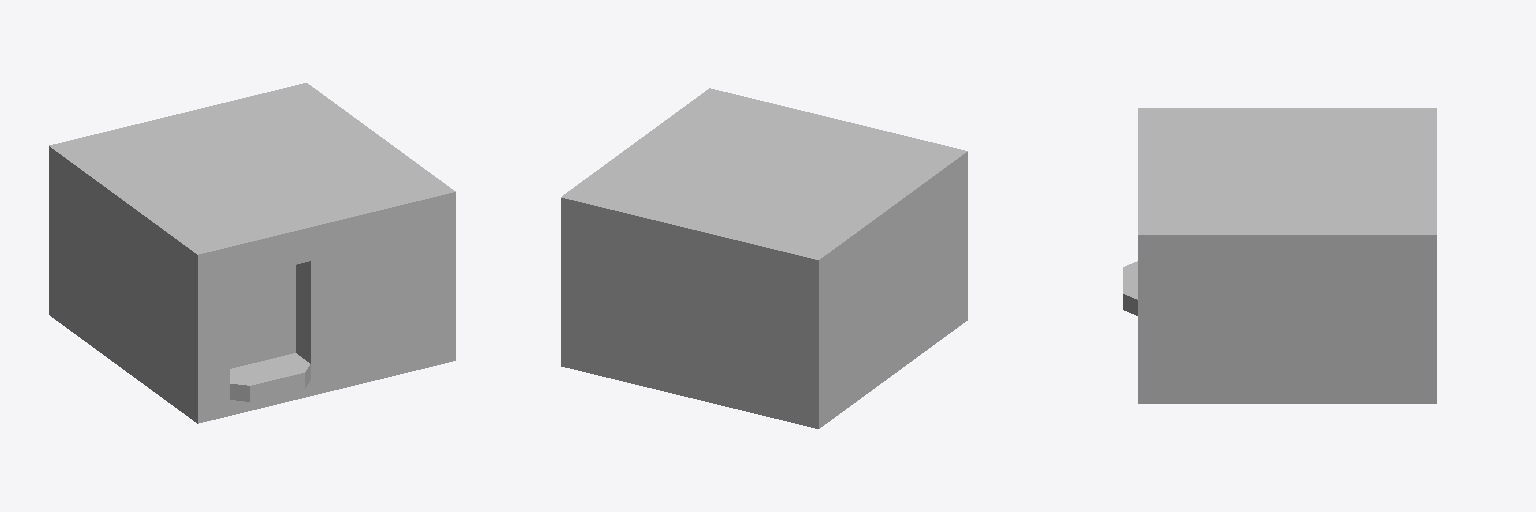
Rendered from building-window-left-sill.obj.
3 renders of one model, left to right at view 1: azimuth 30°, elevation 25°; view 2: azimuth 150°, elevation 25°; view 3: azimuth 270°, elevation 25°, orthographic.
Parts seen in each view (by area): view 1: building-window-left-sill; view 2: building-window-left-sill; view 3: building-window-left-sill.
Boxes of the visible parts, x1=… form: building-window-left-sill: x1=49, y1=83, x2=455, y2=423; building-window-left-sill: x1=561, y1=88, x2=967, y2=428; building-window-left-sill: x1=1123, y1=108, x2=1436, y2=403.
Size of the model in its own units: 1 by 0.625 by 1.05.